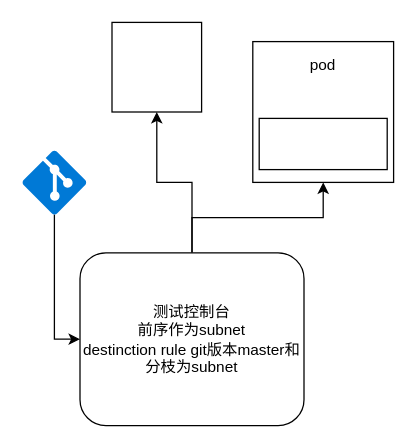
Image size: 416x448. Some labels were removed from this diagram. Here are the shapes that lost their labels. From the top down, the centre of each, then its label:
At pixel 156 66: "pilot virtualservice destinction rule".
At pixel 322 143: "envovy".
